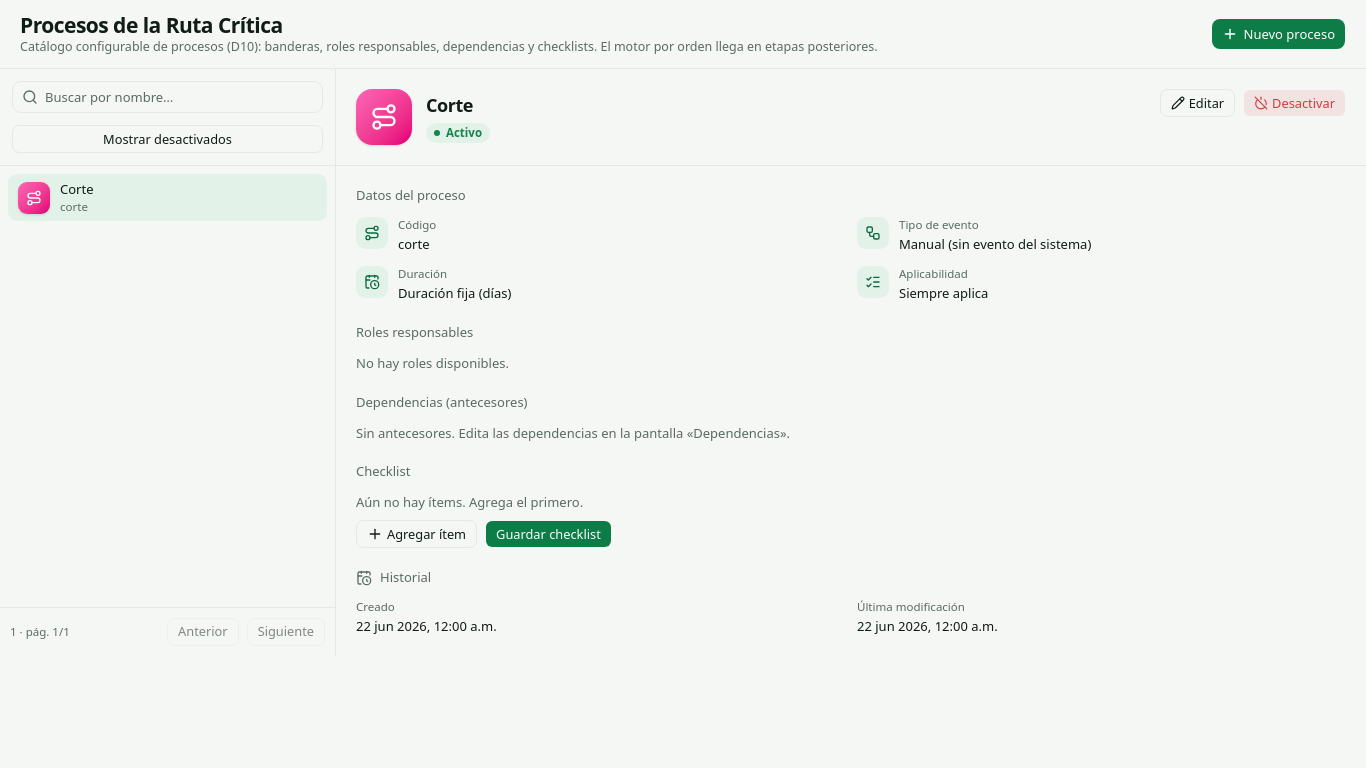
Test case: <ProcesosPagina> › el diálogo de alta permite capturar 2 roles vía el detalle (banderas y tipos en el alta)
The width and height of the screenshot is (1366, 768).
Click the button with test id "nuevo-proceso-rc" at (1278,34), box [1210, 18, 1346, 50]
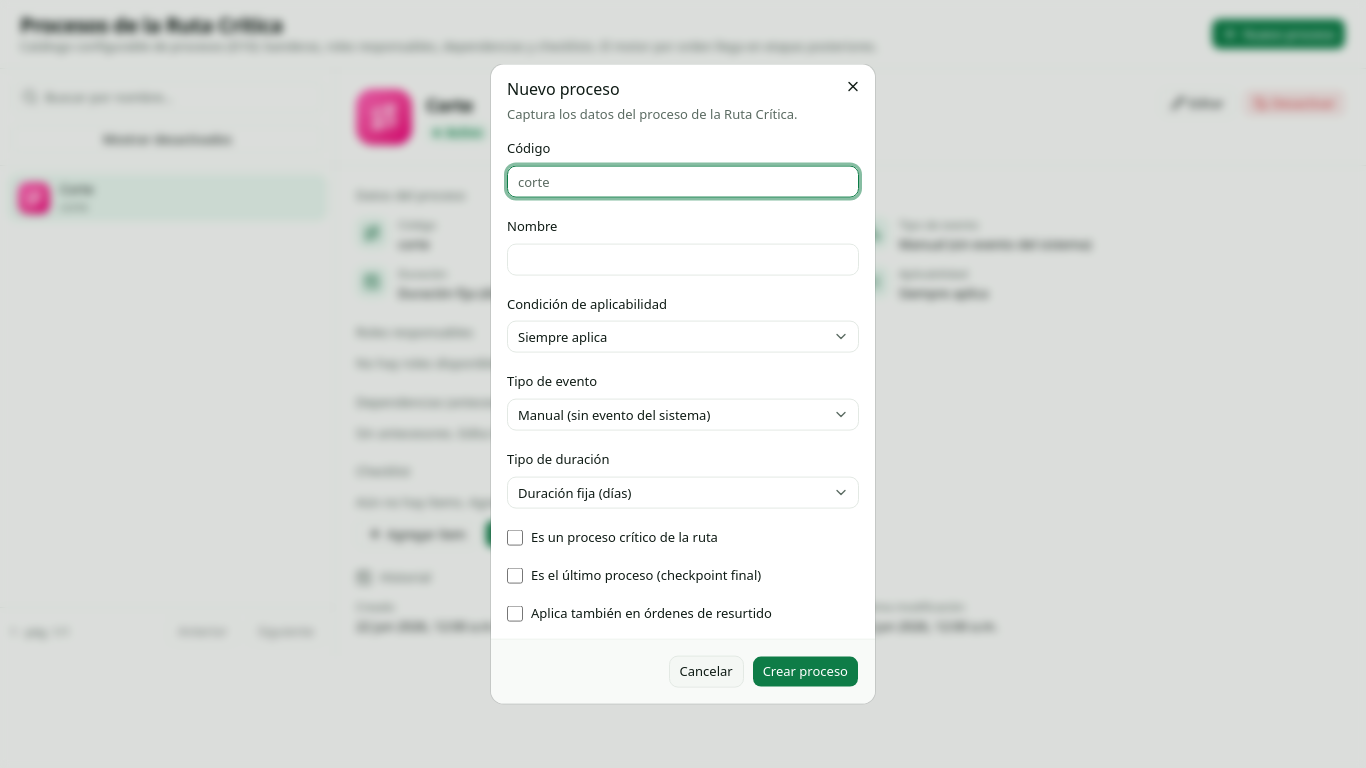
Check: the field labelled "Código" is shown, box [507, 165, 859, 197]
Check: the checkbox with test id "proc-critico" is shown, box [507, 530, 523, 546]
